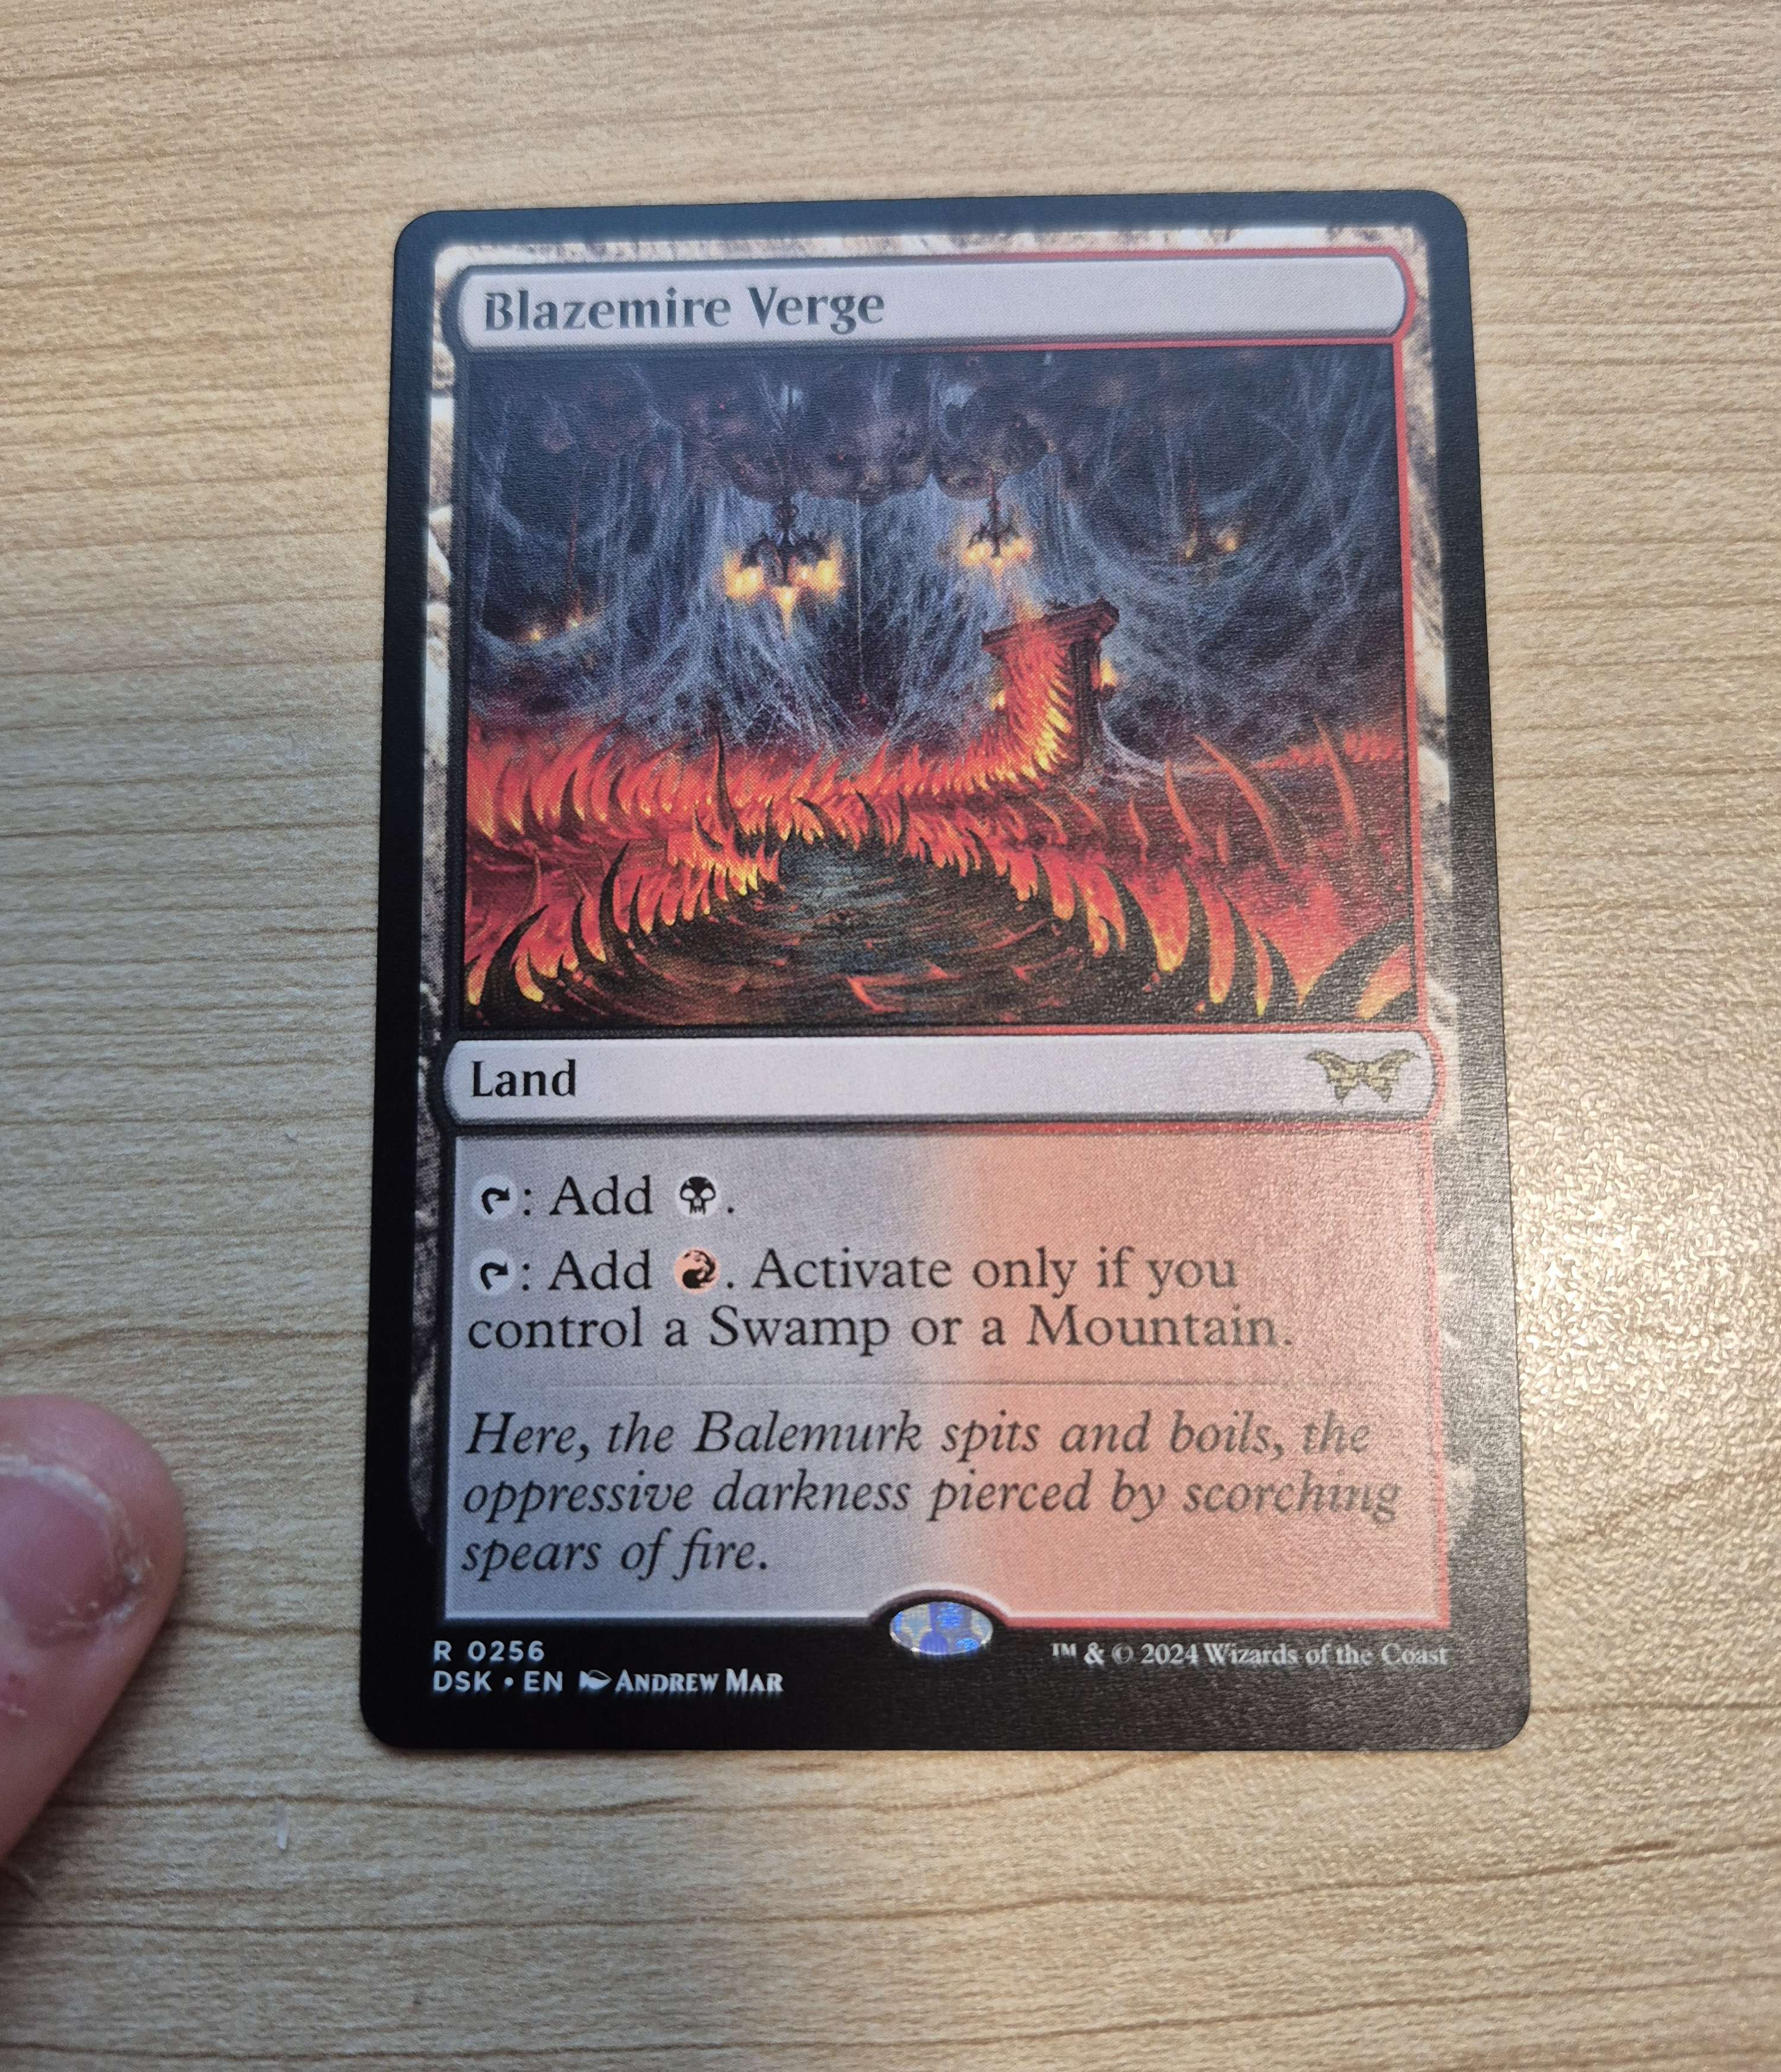mtg_card: (405, 203, 1533, 1769)
